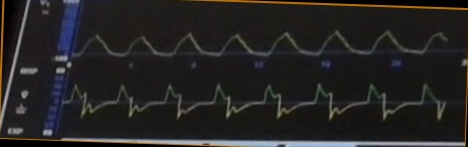Premature_cycling Flow: (65, 72, 447, 132)
Premature_cycling Volume: (77, 10, 447, 60)
